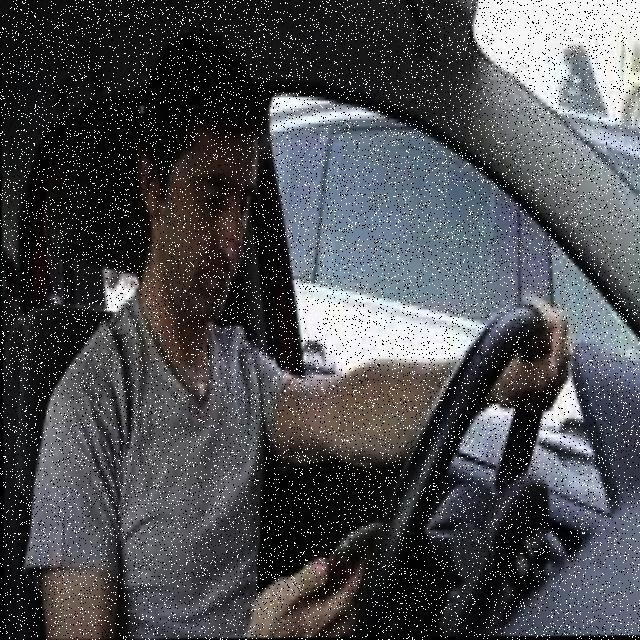noSeatbelt: (37, 252, 278, 640)
